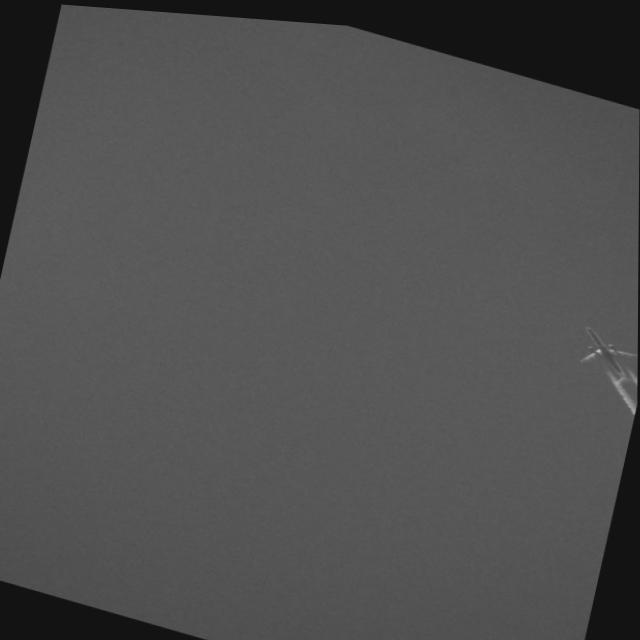aeroplane: (566, 312, 638, 376)
